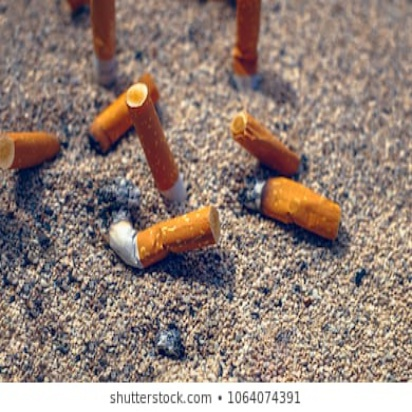cigarette: (100, 199, 229, 274), (122, 82, 196, 211), (231, 173, 353, 251), (226, 110, 310, 178), (220, 1, 269, 93), (3, 121, 69, 174), (87, 1, 120, 91)
